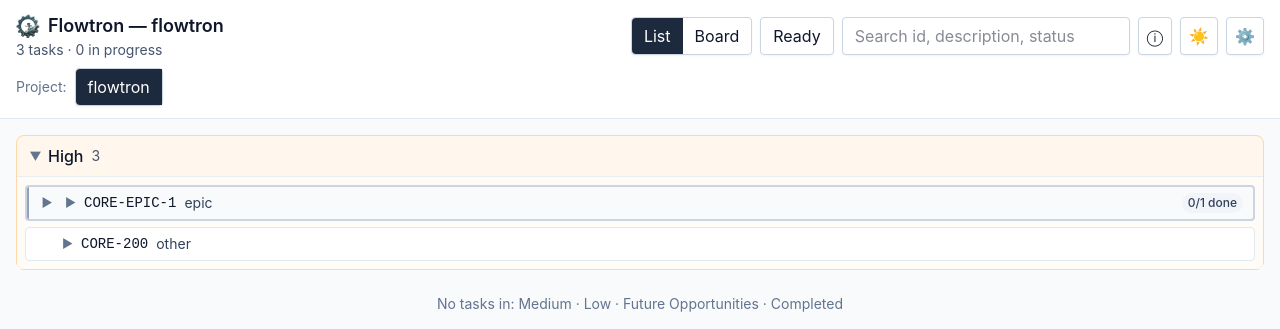
Test: App — search reaches subtasks › keeps the parent epic visible when only a subtask matches the query
The image size is (1280, 329).
Check: the text "CORE-EPIC-1" is shown, box [84,193,176,213]
In the search field: (986, 36) [842,17,1130,55], type "CORE-1.1"
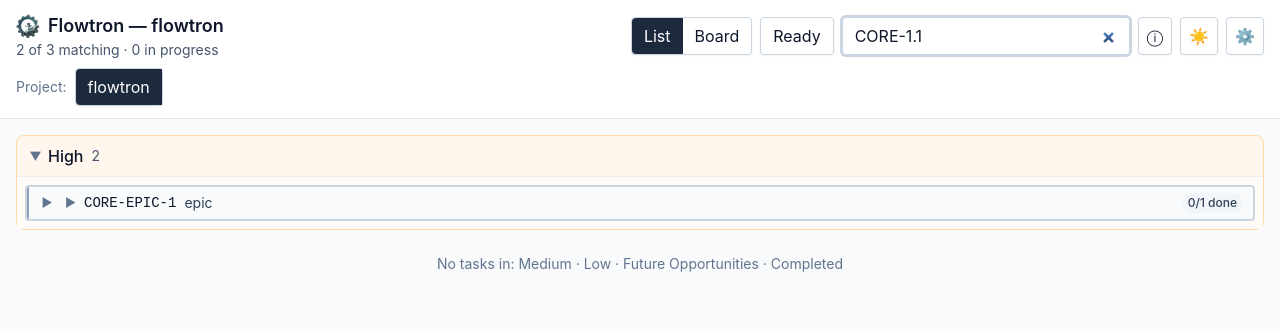
Check: the text "CORE-EPIC-1" is shown, box [84,193,176,213]
Check: the button "CORE-200" is gone
